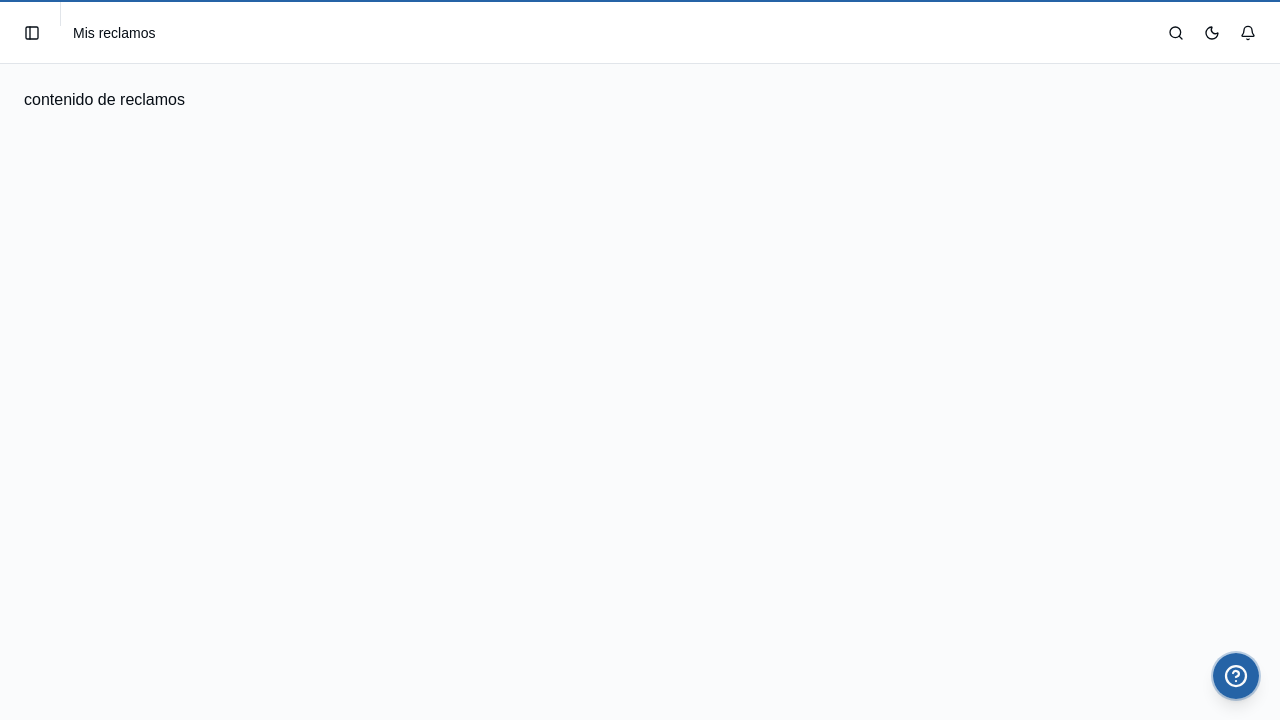
Test case: AppLayout › muestra la preview de notificaciones recientes en la campana
Click the button named "Notificaciones". click: (1248, 32)
box: [1232,16,1264,48]
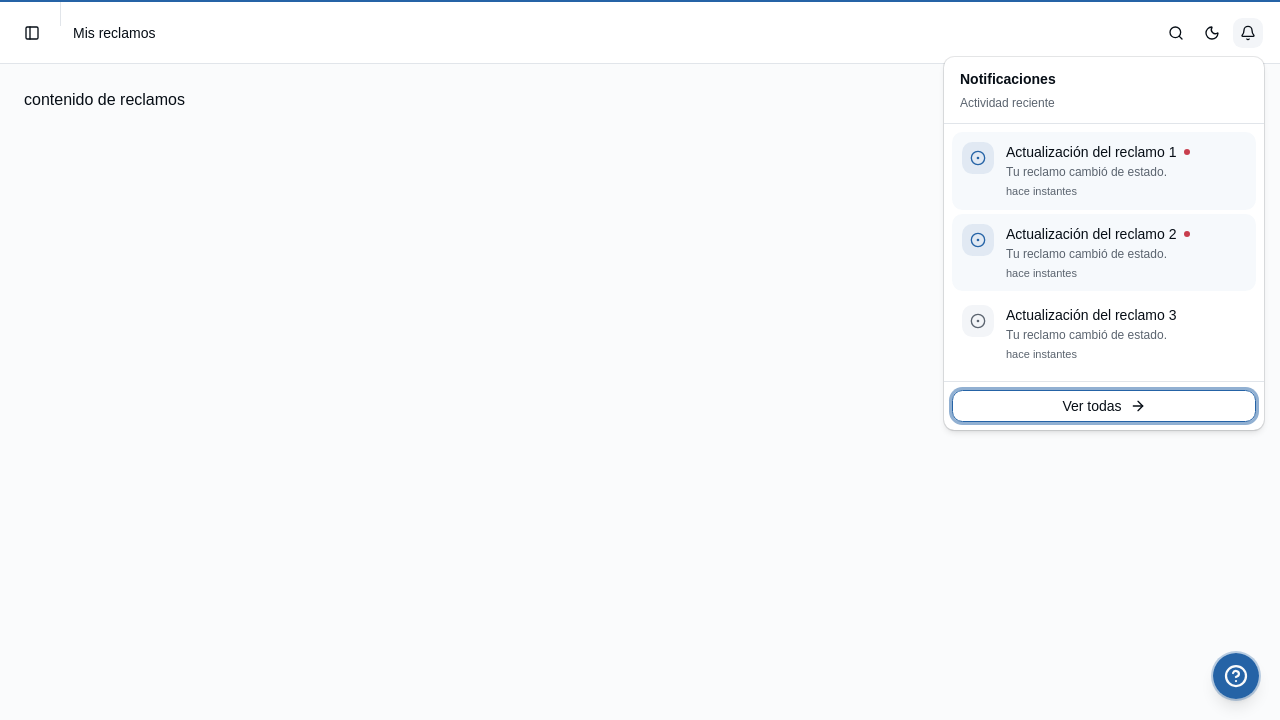
Now the text "Actualización del reclamo 1" is shown, box [1006,142,1176,162]
Now the text "Actualización del reclamo 2" is shown, box [1006,224,1176,244]
Now the text "Actualización del reclamo 3" is shown, box [1006,305,1176,325]
